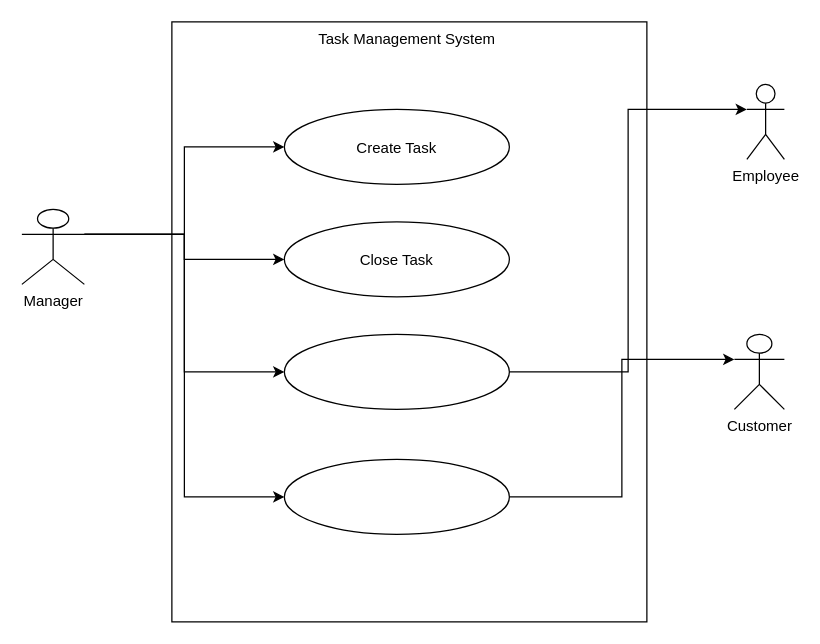
Image size: 820x644. Some labels were removed from this diagram. Each missing label, with the centre of its shape:
Assign Task: the point at 396,371
Notify Customer: the point at 396,496
